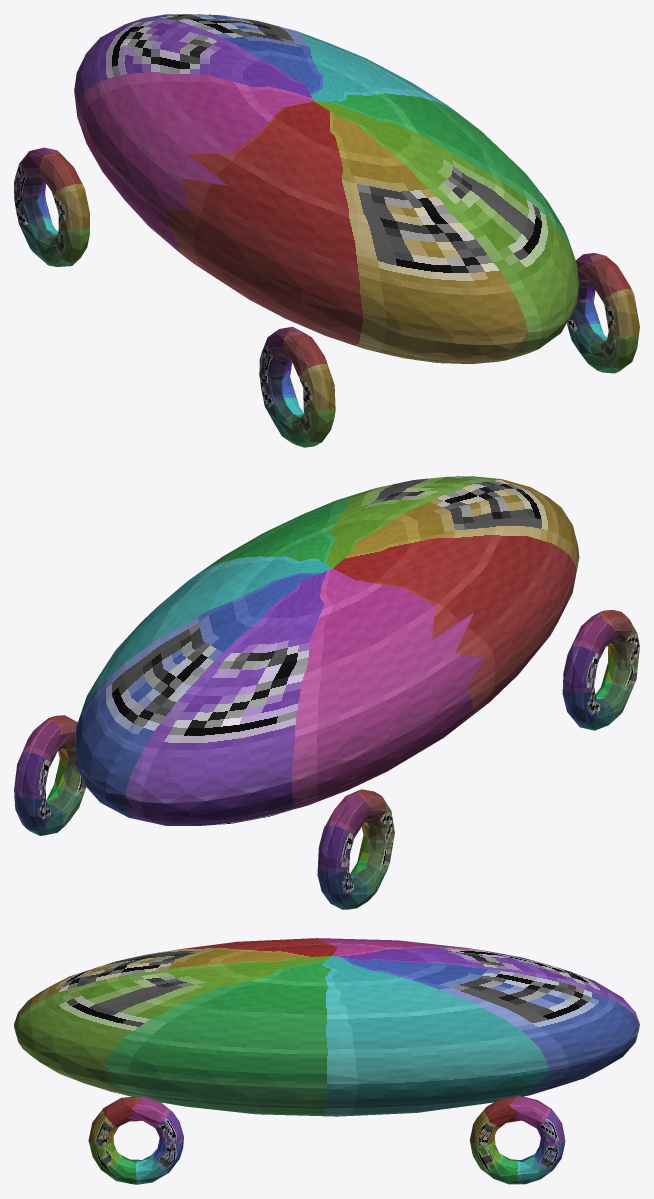
Rendered from lod-pipeline-fixture-lod1.glb.
3 renders of one model, top to bottom at view 1: azimuth 30°, elevation 25°; view 2: azimuth 150°, elevation 25°; view 3: azimuth 270°, elevation 25°, orthographic. The views are drawn at different scales.
Visible parts, largest first — view 1: Traffic_body, Traffic_FL, Traffic_RL, Traffic_FR; view 2: Traffic_body, Traffic_RL, Traffic_FL, Traffic_RR; view 3: Traffic_body, Traffic_RR, Traffic_FR.
Part boxes in pixels (<box>): Traffic_body: <box>74,14,578,363</box>; Traffic_FL: <box>259,326,335,447</box>; Traffic_RL: <box>14,147,89,266</box>; Traffic_FR: <box>567,253,639,373</box>; Traffic_body: <box>75,476,579,825</box>; Traffic_RL: <box>317,789,394,909</box>; Traffic_FL: <box>562,610,639,730</box>; Traffic_RR: <box>14,715,86,835</box>; Traffic_body: <box>14,938,639,1116</box>; Traffic_RR: <box>469,1095,565,1184</box>; Traffic_FR: <box>88,1096,183,1184</box>.
Size of the model in its own units: 2.18 by 1.35 by 4.6.
1 material, 1 textured.
